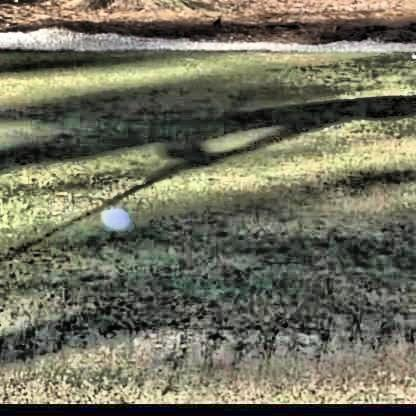golfball: (98, 204, 127, 232)
